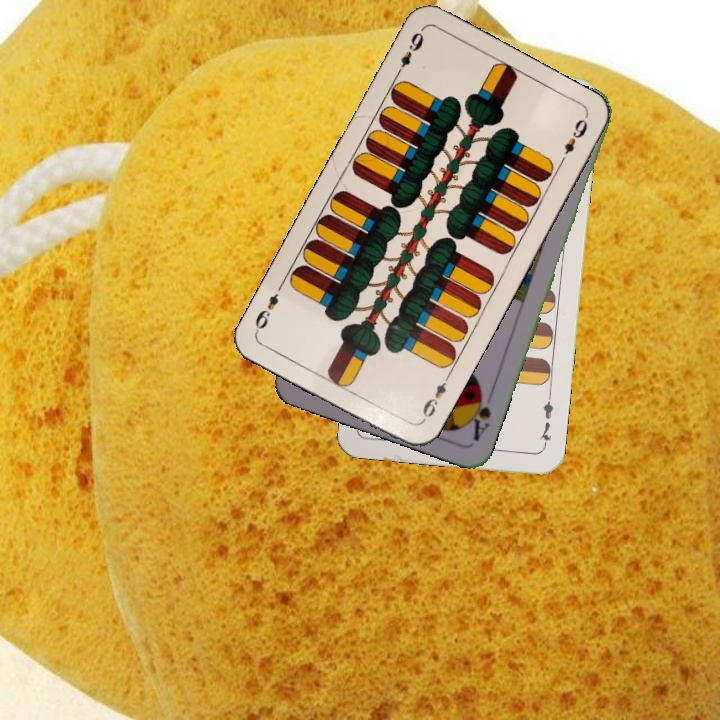E7: (535, 391, 556, 450)
E9: (417, 371, 453, 425), (391, 28, 427, 80)
SA: (463, 383, 496, 444)
